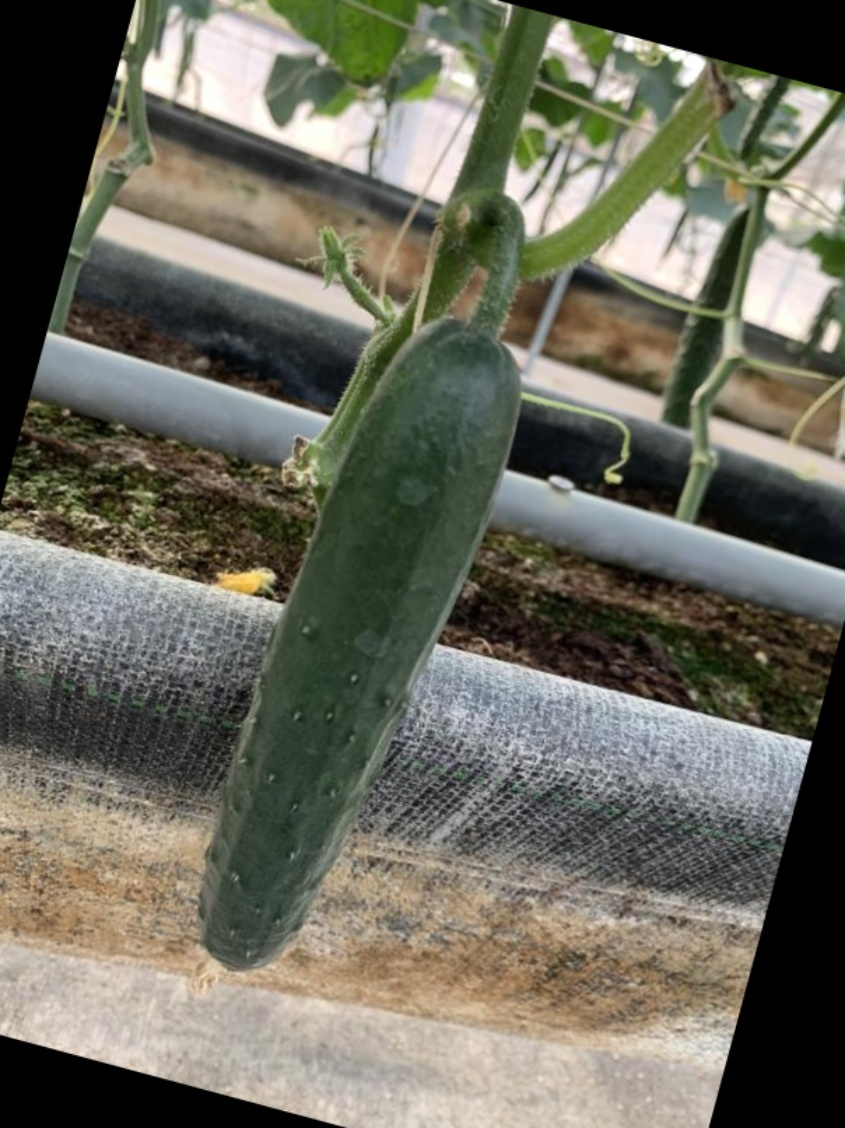mature: (186, 318, 554, 948)
